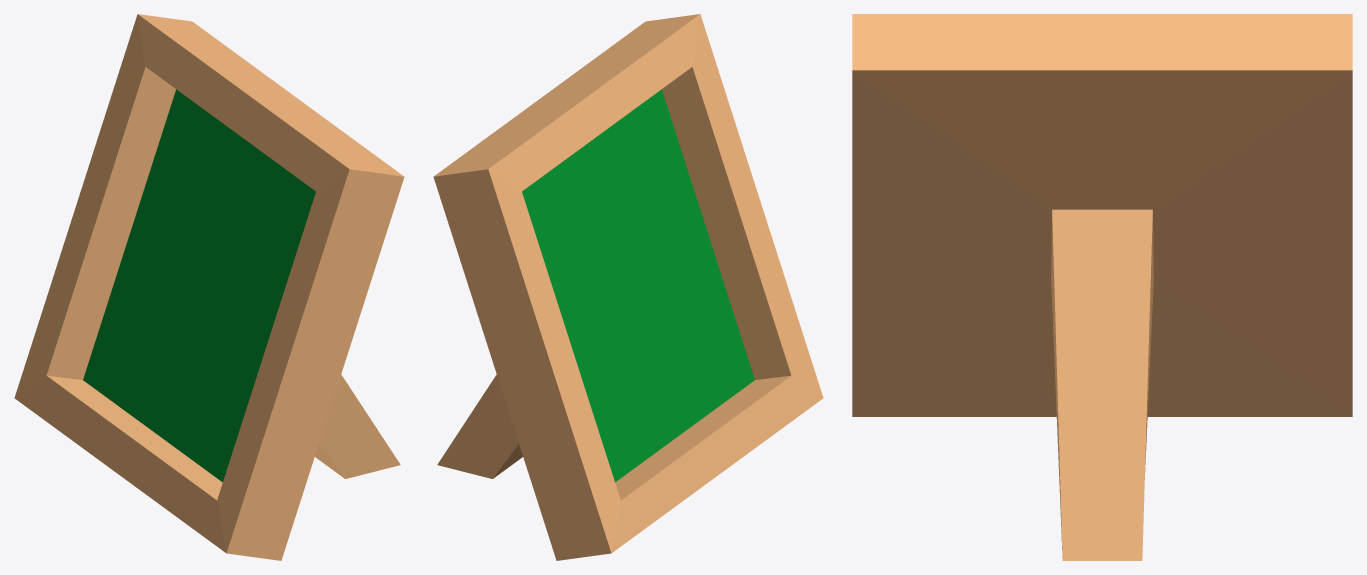
File: Picture Frame_17.fbx
3 renders of one model, left to right at view 1: azimuth 30°, elevation 25°; view 2: azimuth 150°, elevation 25°; view 3: azimuth 270°, elevation 25°, orthographic. The views are drawn at different scales.
Parts seen in each view (by area): view 1: Picture Frame_17; view 2: Picture Frame_17; view 3: Picture Frame_17.
Boxes of the visible parts, bbox=[...] form: Picture Frame_17: bbox=[14, 14, 404, 560]; Picture Frame_17: bbox=[433, 14, 823, 560]; Picture Frame_17: bbox=[852, 14, 1352, 560].
Bounding box in the file's own units: 0.1138 × 0.1634 × 0.1587.
